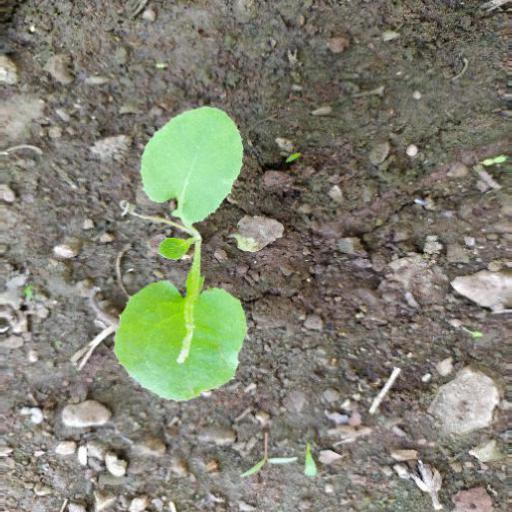weed: (112, 110, 250, 408)
